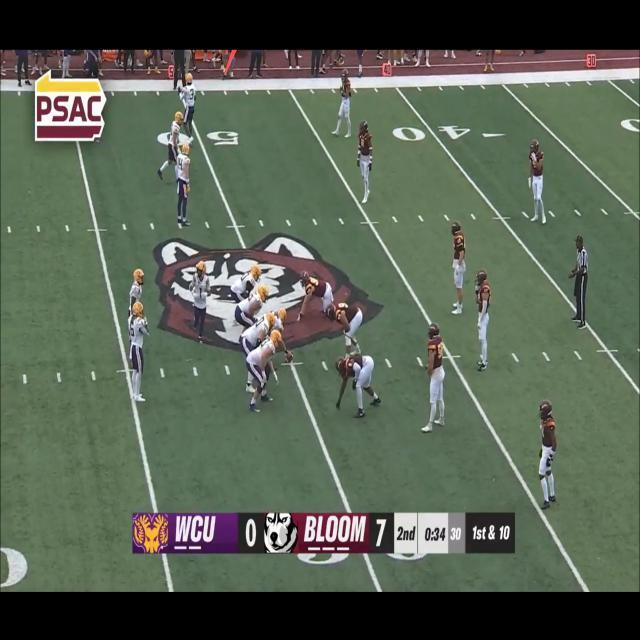football: (284, 350, 294, 367)
